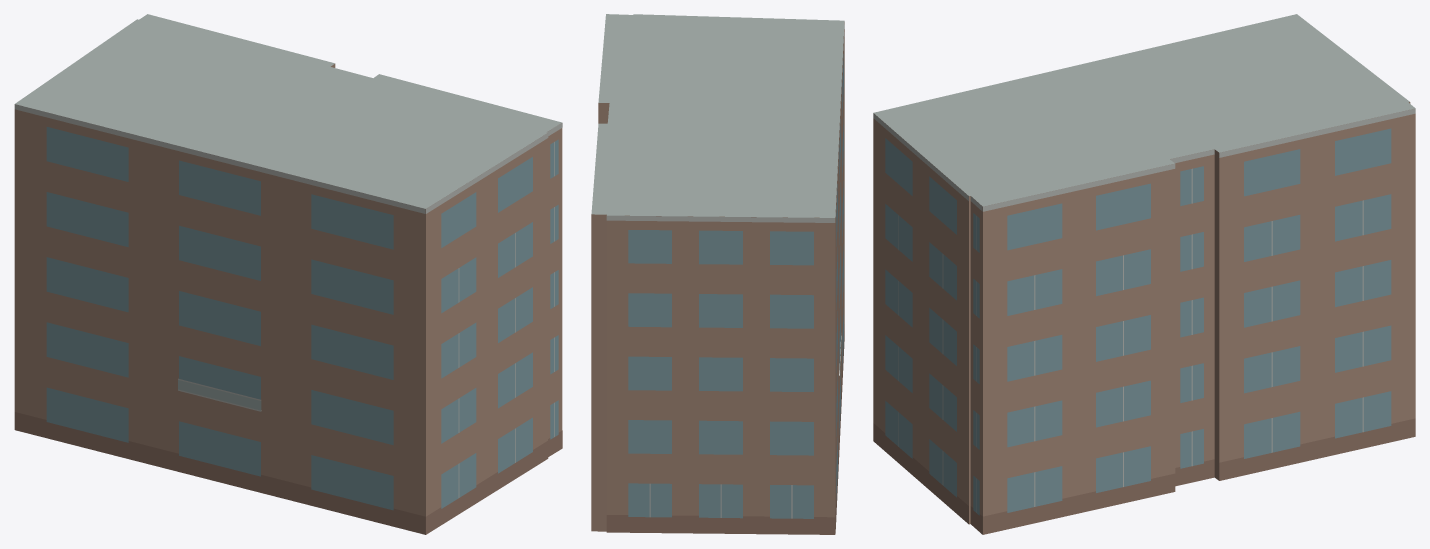
The model's file is survey-upis-33041058.glb.
3 renders of one model, left to right at view 1: azimuth 30°, elevation 25°; view 2: azimuth 150°, elevation 25°; view 3: azimuth 270°, elevation 25°, orthographic. The views are drawn at different scales.
Parts seen in each view (by area): view 1: survey-upis-33041058.tmp; view 2: survey-upis-33041058.tmp; view 3: survey-upis-33041058.tmp.
Part boxes in pixels (<box>): survey-upis-33041058.tmp: <box>14,14,562,534</box>; survey-upis-33041058.tmp: <box>591,14,844,534</box>; survey-upis-33041058.tmp: <box>873,14,1415,534</box>.
Bounding box in the file's own units: 19.2 × 15.25 × 22.84.
